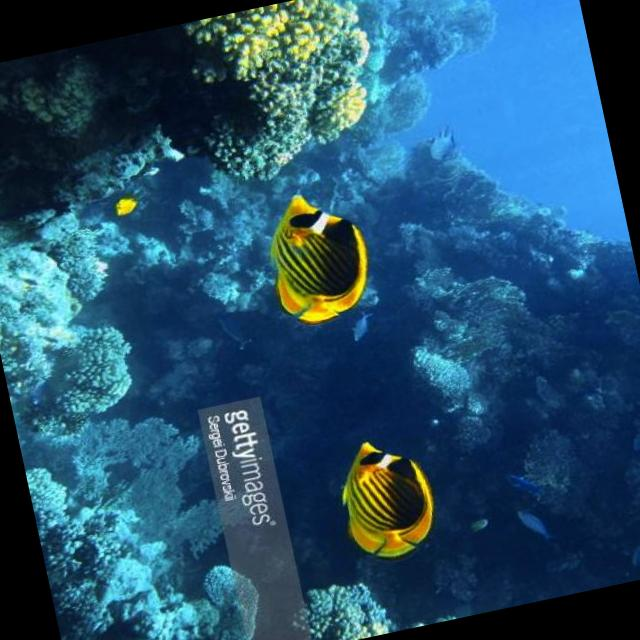ButterflyFish: (232, 152, 413, 349), (323, 428, 447, 581)
